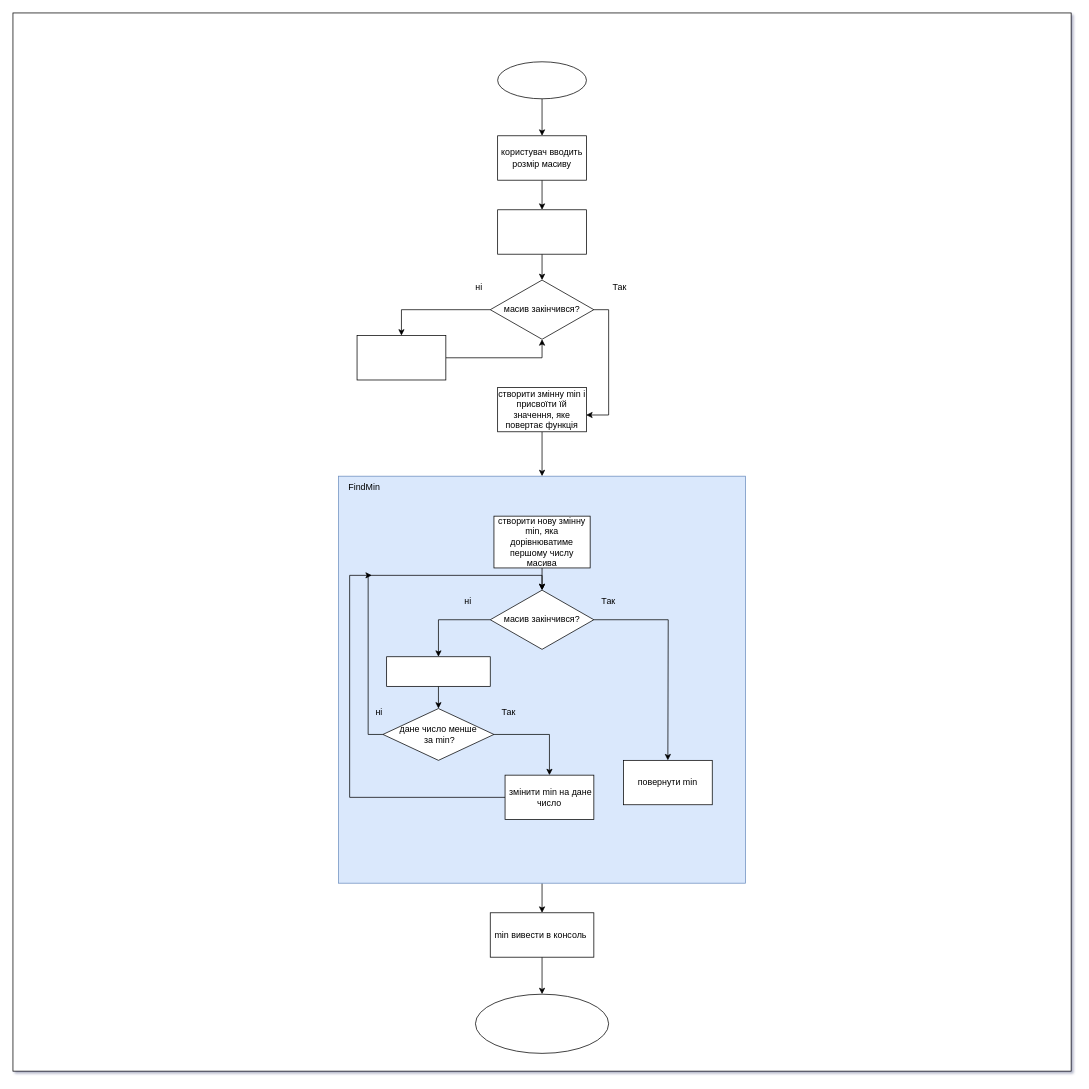
Image size: 1089x1089. Some labels were removed from this diagram. Here are the shapes that lost their labels. From the top down, the centre of each, then its label:
At pixel 541 80: "Початок".
At pixel 541 231: "створити масив з введеним розміром".
At pixel 401 357: "ввести нове число".
At pixel 438 671: "перейти до наступного числа".
At pixel 542 1023: "кінець".
